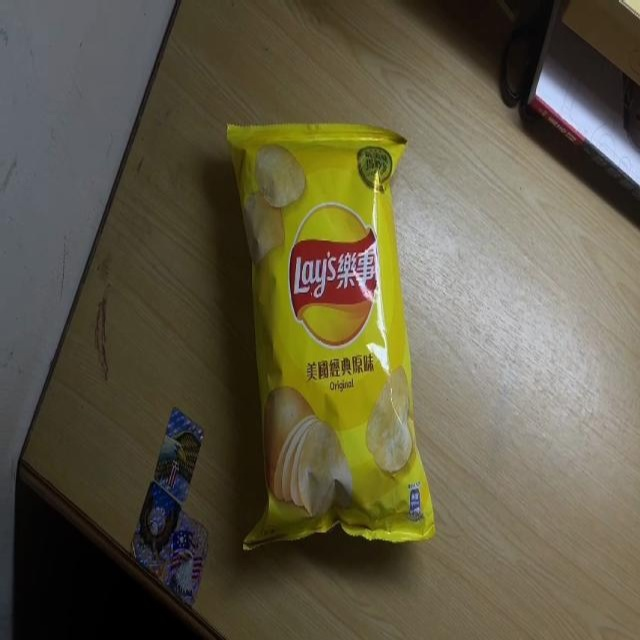Lay-s-original: (225, 118, 437, 550)
